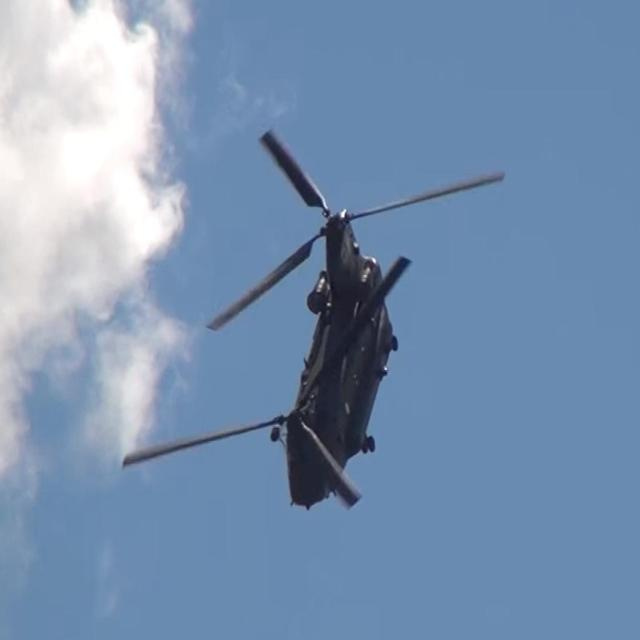Helicopter: (156, 138, 499, 586)
